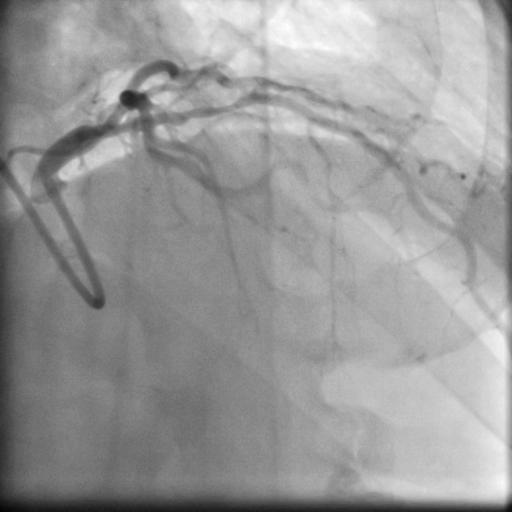Stenosis: (178, 100, 243, 121)
